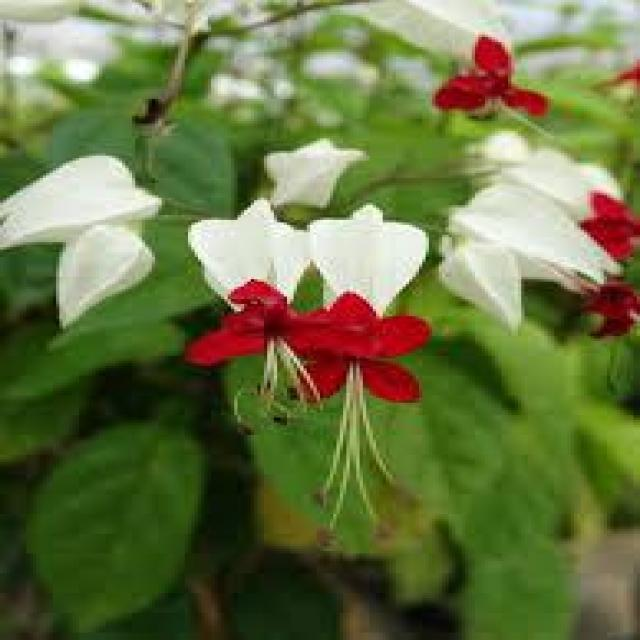organic waste: (288, 209, 466, 545), (454, 122, 638, 303), (211, 200, 323, 423), (3, 158, 162, 307)
